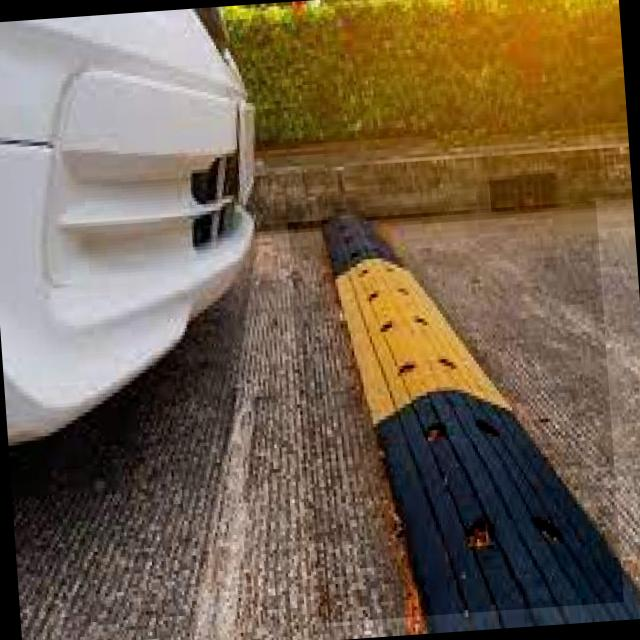bump: (287, 201, 623, 624)
